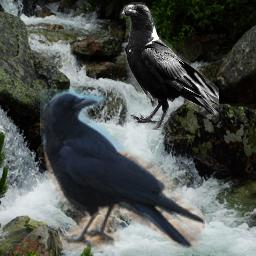Crow: (40, 86, 205, 254), (119, 2, 219, 130)
